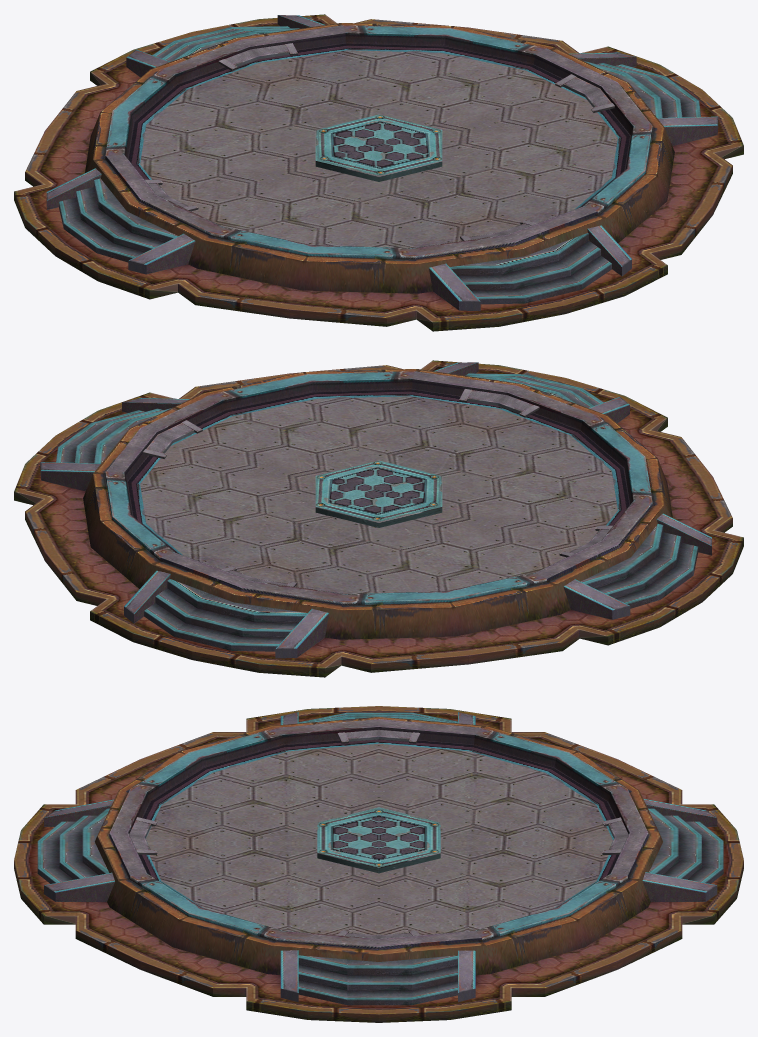
Rendered from yw_huanghunbianjing_taizi02.FBX.
3 views of the same model, one above another, from view 1: azimuth 30°, elevation 25°; view 2: azimuth 150°, elevation 25°; view 3: azimuth 270°, elevation 25° (orthographic). The views are drawn at different scales.
Visible parts, largest first — view 1: yw_huanghunbianjing_taizi02; view 2: yw_huanghunbianjing_taizi02; view 3: yw_huanghunbianjing_taizi02.
Boxes of the visible parts, box(x1,y1,x2,y2) form: yw_huanghunbianjing_taizi02: box(14, 14, 743, 331); yw_huanghunbianjing_taizi02: box(14, 360, 743, 677); yw_huanghunbianjing_taizi02: box(14, 706, 743, 1022).
Bounding box in the file's own units: 712 × 38.54 × 712.
